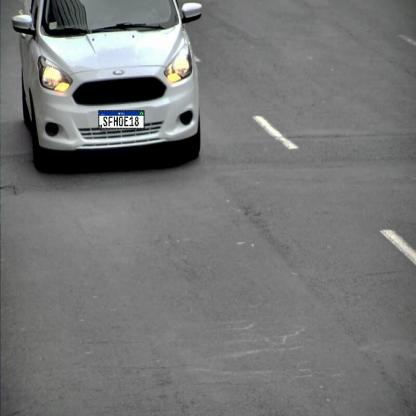PlacaM: (98, 110, 145, 129)
